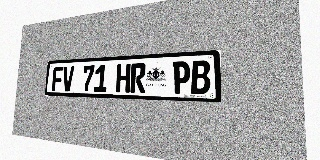1: (94, 65, 107, 92)
7: (82, 65, 95, 92)
B: (191, 60, 210, 94)
F: (52, 67, 63, 91)
H: (116, 64, 131, 93)
P: (172, 61, 190, 94)
R: (130, 63, 146, 93)
V: (62, 66, 74, 91)
